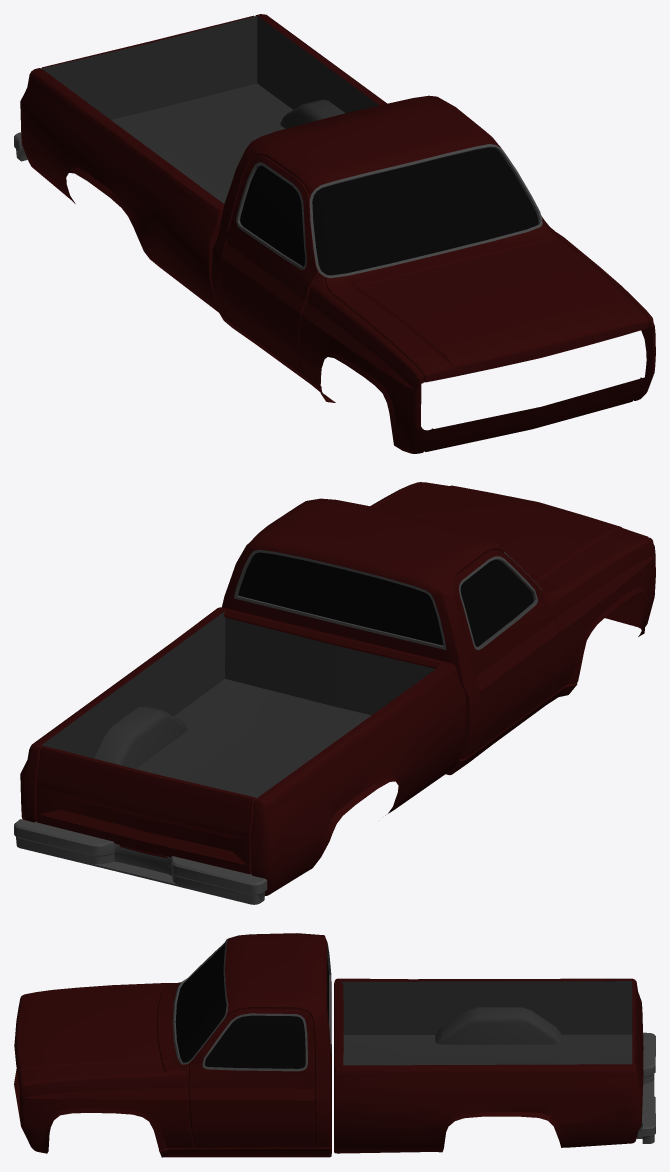
The model's file is whiskey_donkey.fbx.
The picture shows the model from 3 angles, top to bottom: view 1: azimuth 30°, elevation 25°; view 2: azimuth 150°, elevation 25°; view 3: azimuth 270°, elevation 25°; orthographic projection. The views are drawn at different scales.
Visible parts, largest first — view 1: Details, Hood_paintable, Windows, Body_paintable, RearFender_paintable, FrontFenders_paintable, Doors_paintable, Chrome; view 2: Details, RearFender_paintable, Body_paintable, Trunk_unpaintable, Windows, Hood_paintable, Chrome, Doors_paintable, FrontFenders_paintable; view 3: RearFender_paintable, Details, Body_paintable, Hood_paintable, Doors_paintable, FrontFenders_paintable, Windows, Chrome, Trunk_unpaintable.
Part boxes in pixels (x1,y1,x2,y2): Details: (41,16,379,203); Hood_paintable: (332,238,648,382); Windows: (240,147,538,275); Body_paintable: (211,95,639,451); RearFender_paintable: (20,14,386,312); FrontFenders_paintable: (299,219,655,453); Doors_paintable: (220,138,549,373); Chrome: (14,132,542,278); Details: (42,611,435,798); RearFender_paintable: (20,607,466,895); Body_paintable: (222,498,640,775); Trunk_unpaintable: (36,746,255,874); Windows: (238,552,533,646); Hood_paintable: (374,482,648,590); Chrome: (14,544,542,904); Doors_paintable: (452,550,559,751); FrontFenders_paintable: (370,482,655,696); RearFender_paintable: (334,978,641,1153); Details: (341,981,632,1065); Body_paintable: (14,933,331,1157); Hood_paintable: (14,984,165,1087); Doors_paintable: (188,1008,314,1147); FrontFenders_paintable: (20,983,194,1153); Windows: (175,943,328,1068); Chrome: (172,939,655,1143); Trunk_unpaintable: (632,982,643,1114).
Size of the model in its own units: 22.06 by 14.99 by 58.
